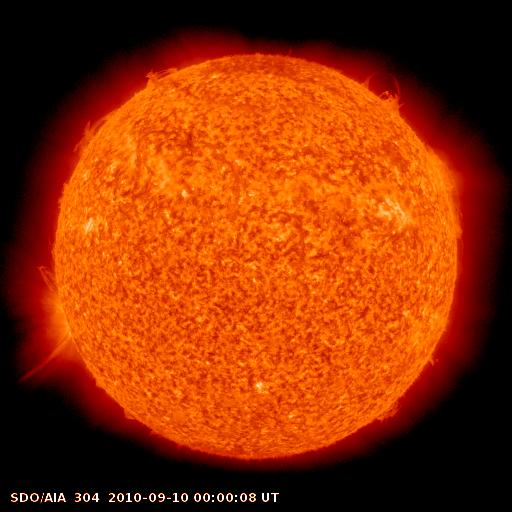prominence: (415, 137, 476, 243), (9, 331, 75, 391), (358, 60, 415, 125), (64, 104, 123, 158), (134, 61, 192, 97), (369, 396, 409, 430)
